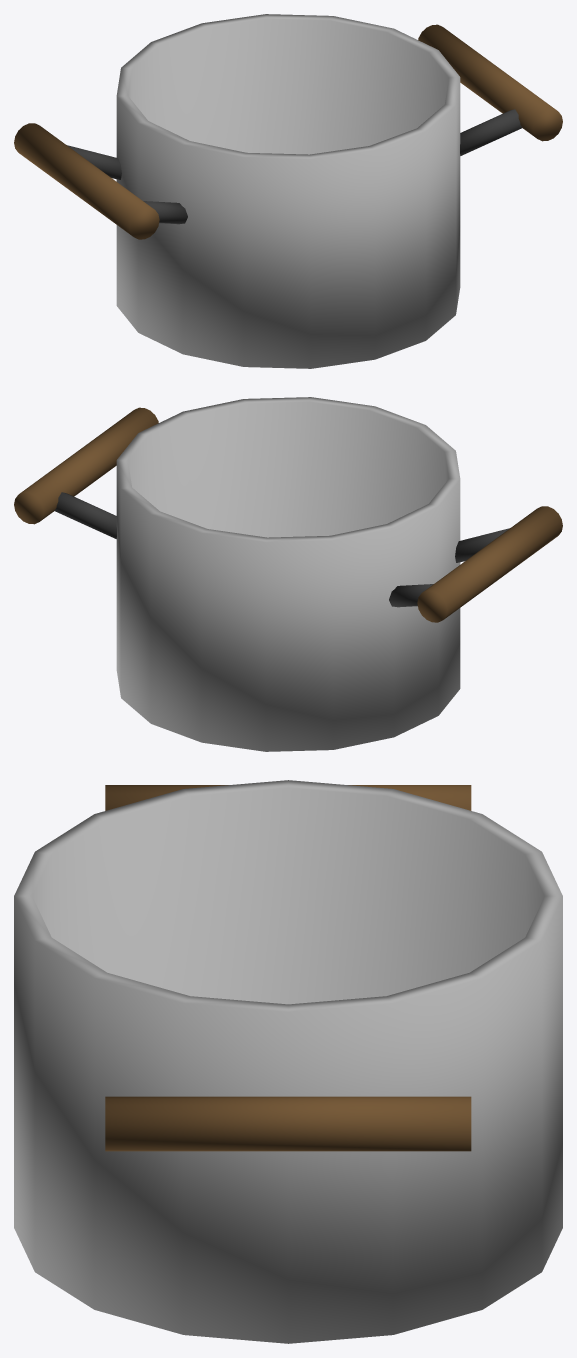
Rendered from CookingPot.fbx.
3 renders of one model, top to bottom at view 1: azimuth 30°, elevation 25°; view 2: azimuth 150°, elevation 25°; view 3: azimuth 270°, elevation 25°, orthographic. The views are drawn at different scales.
Parts seen in each view (by area): view 1: CookingPot; view 2: CookingPot; view 3: CookingPot.
Part boxes in pixels (box(x1,y1,x2,y2)): CookingPot: box(14, 14, 562, 368); CookingPot: box(14, 397, 562, 751); CookingPot: box(14, 780, 562, 1343).
Size of the model in its own units: 86.59 by 40 by 60.
